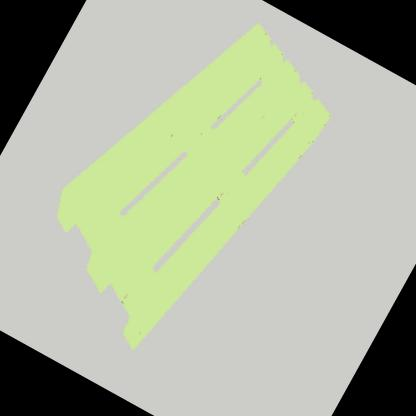BoxFace: (53, 16, 337, 355)
